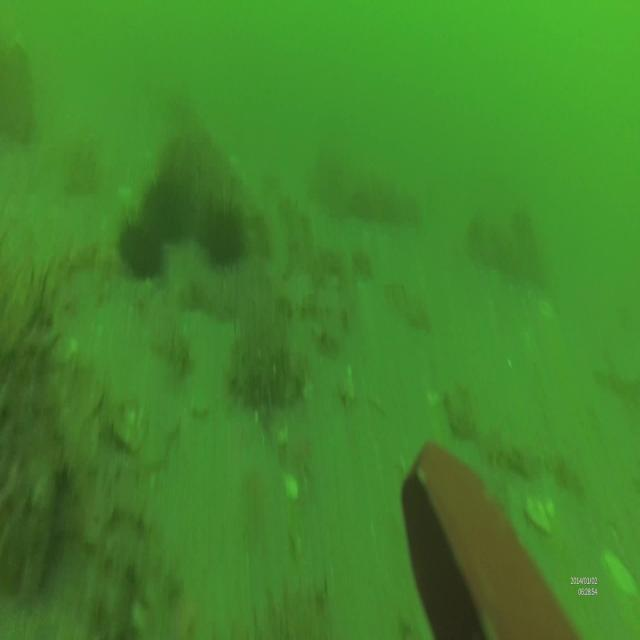echinus: (139, 178, 191, 242), (205, 200, 245, 266), (122, 219, 164, 280)
